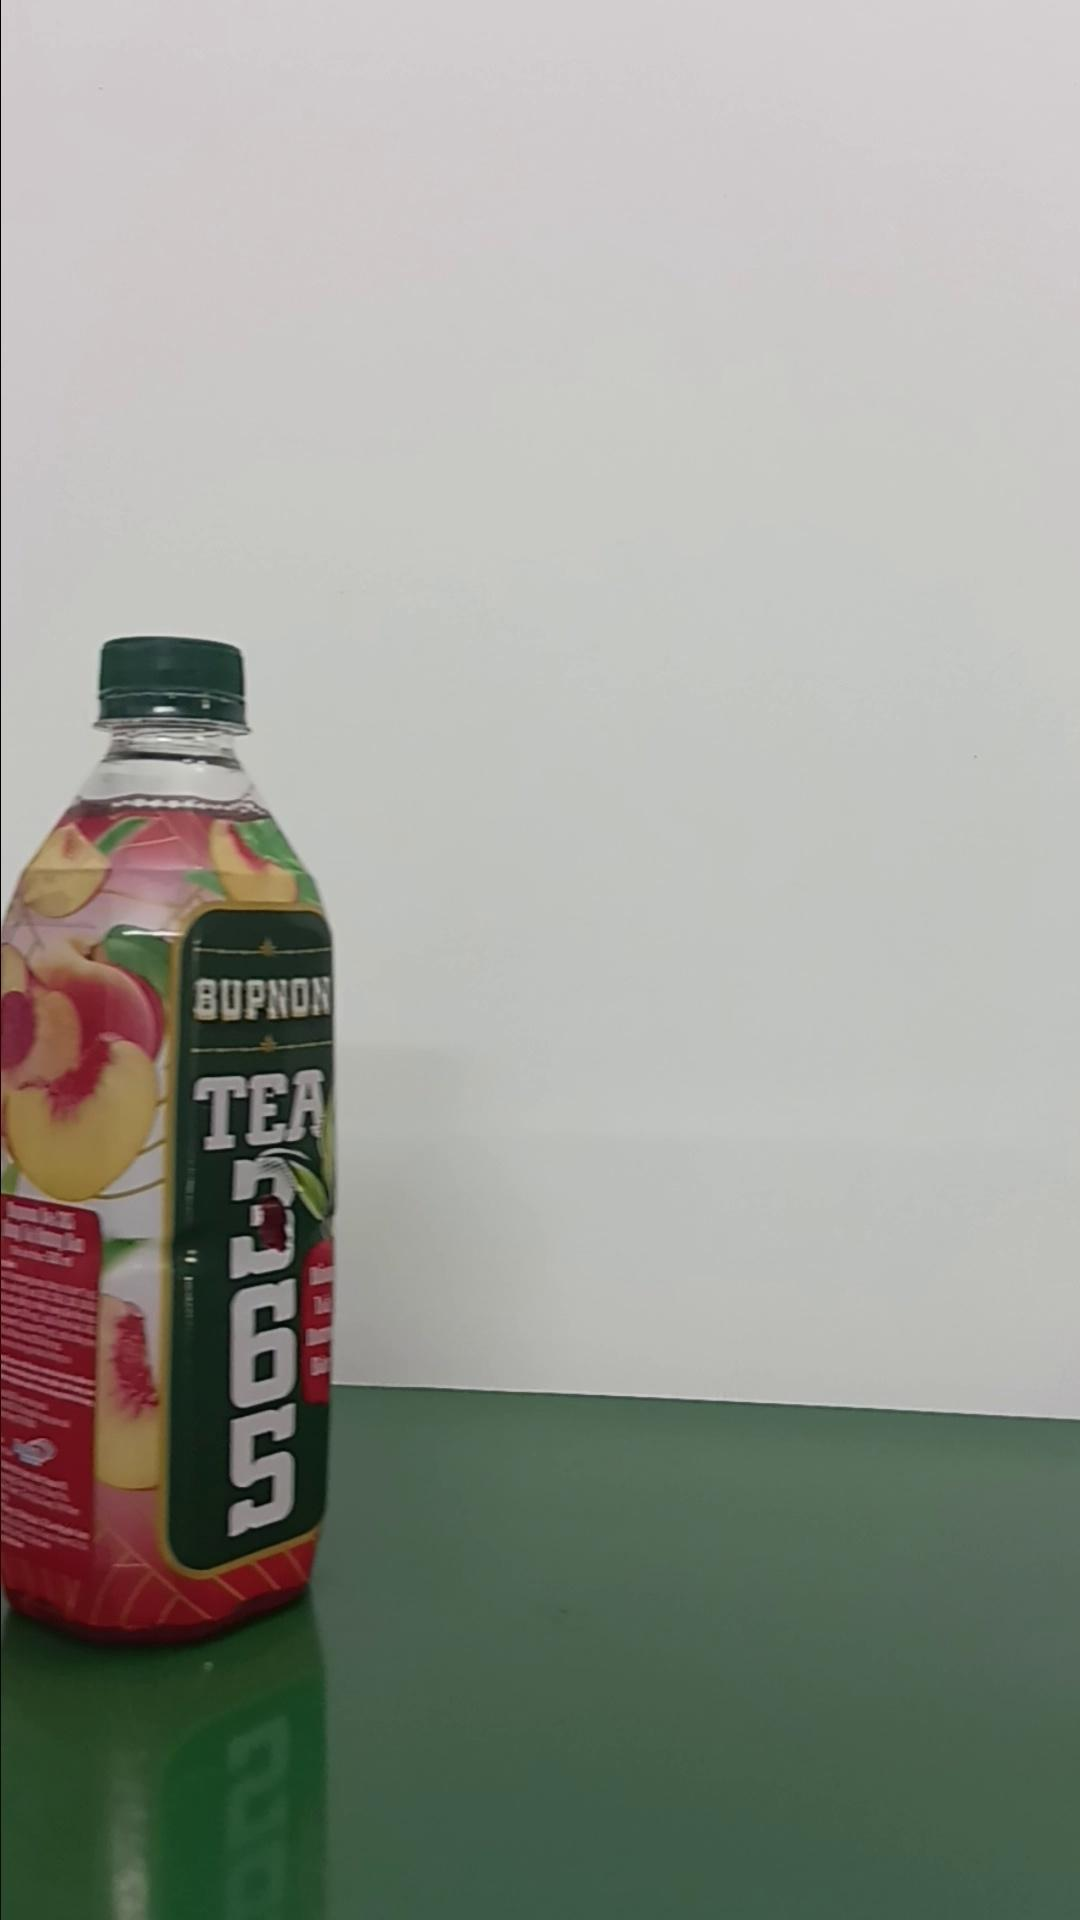loi rach va lap chai: (4, 628, 348, 1650)
